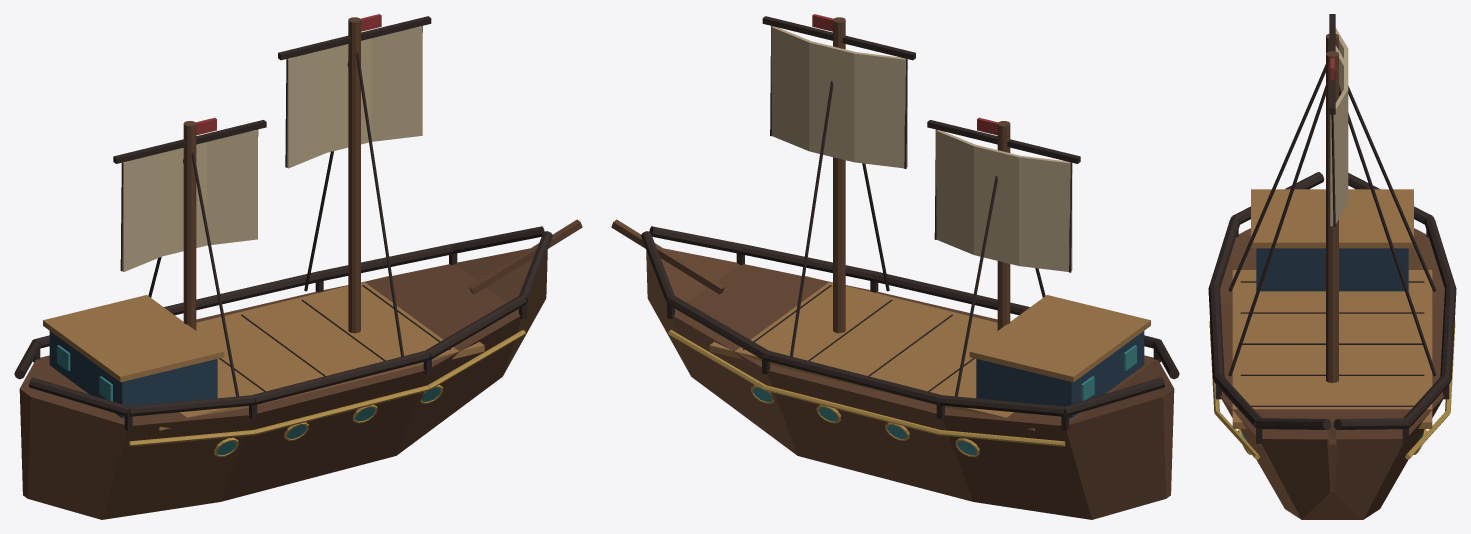
File: PirateCove_Landmark_Standard.glb
3 renders of one model, left to right at view 1: azimuth 30°, elevation 25°; view 2: azimuth 150°, elevation 25°; view 3: azimuth 270°, elevation 25°, orthographic. The views are drawn at different scales.
Parts seen in each view (by area): view 1: PirateCove_Landmark_Standard; view 2: PirateCove_Landmark_Standard; view 3: PirateCove_Landmark_Standard.
Part boxes in pixels (x1,y1,x2,y2): PirateCove_Landmark_Standard: [14, 14, 582, 519]; PirateCove_Landmark_Standard: [611, 14, 1179, 519]; PirateCove_Landmark_Standard: [1208, 14, 1456, 519].
Size of the model in its own units: 12.91 by 9.4 by 4.72.
